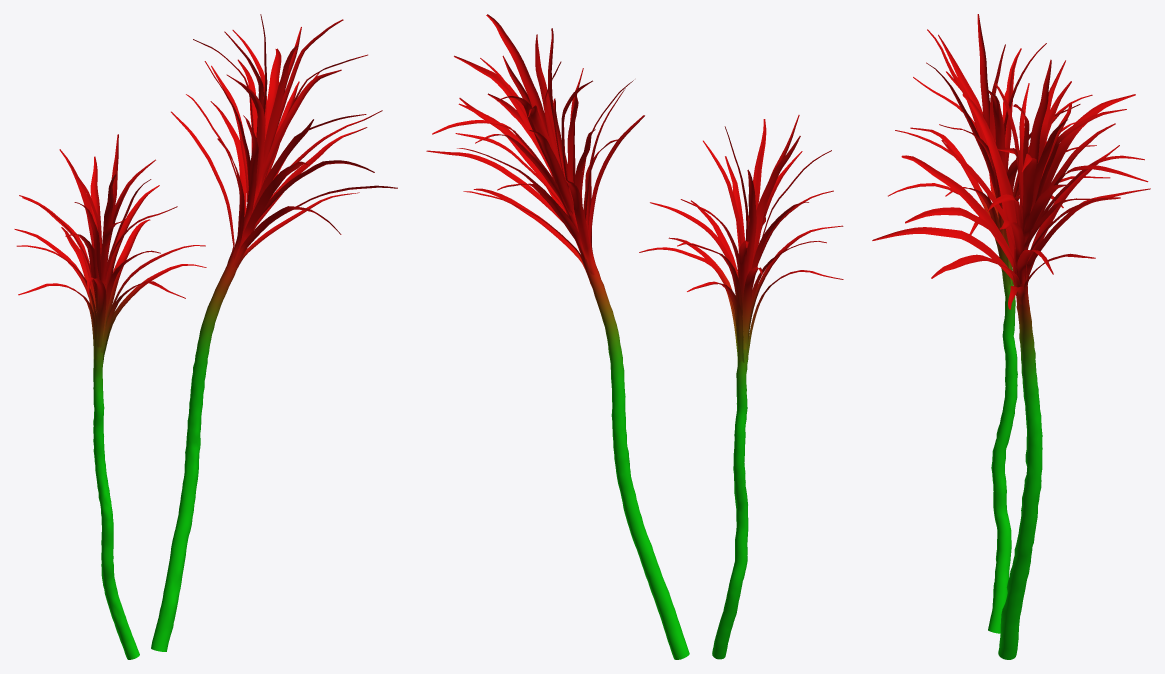
File: Dragon Tree_LOD0_Var5_wfypejzha.fbx
3 views of the same model, side by side, from view 1: azimuth 30°, elevation 25°; view 2: azimuth 150°, elevation 25°; view 3: azimuth 270°, elevation 25° (orthographic). The views are drawn at different scales.
Visible parts, largest first — view 1: _vqmu_Var5_LOD0; view 2: _vqmu_Var5_LOD0; view 3: _vqmu_Var5_LOD0.
Part boxes in pixels (x1=…): _vqmu_Var5_LOD0: x1=14, y1=14, x2=397, y2=659; _vqmu_Var5_LOD0: x1=426, y1=14, x2=843, y2=659; _vqmu_Var5_LOD0: x1=872, y1=14, x2=1150, y2=659.
Size of the model in its own units: 64.31 by 96.62 by 36.81.
